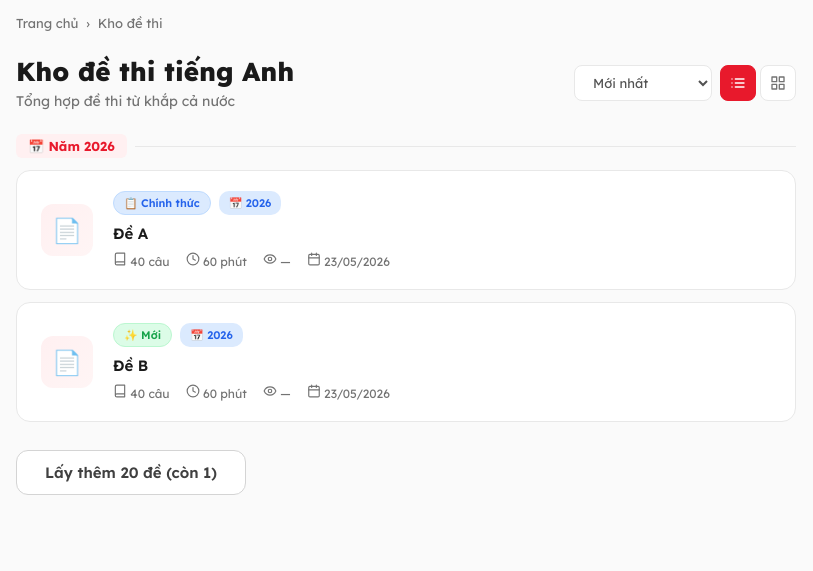
KhoDeThiClient › load-more appends items
The image size is (813, 571).
Click the button "Lấy thêm 20 đề (còn 1)". click: (131, 472)
box: 16,450 -> 246,495
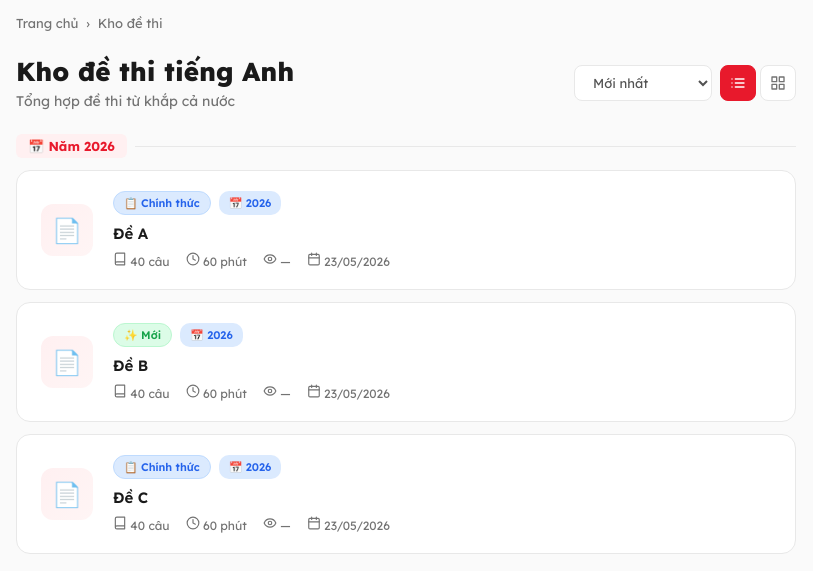
Result: the link "Đề C" is shown at 113,488 -> 148,507
